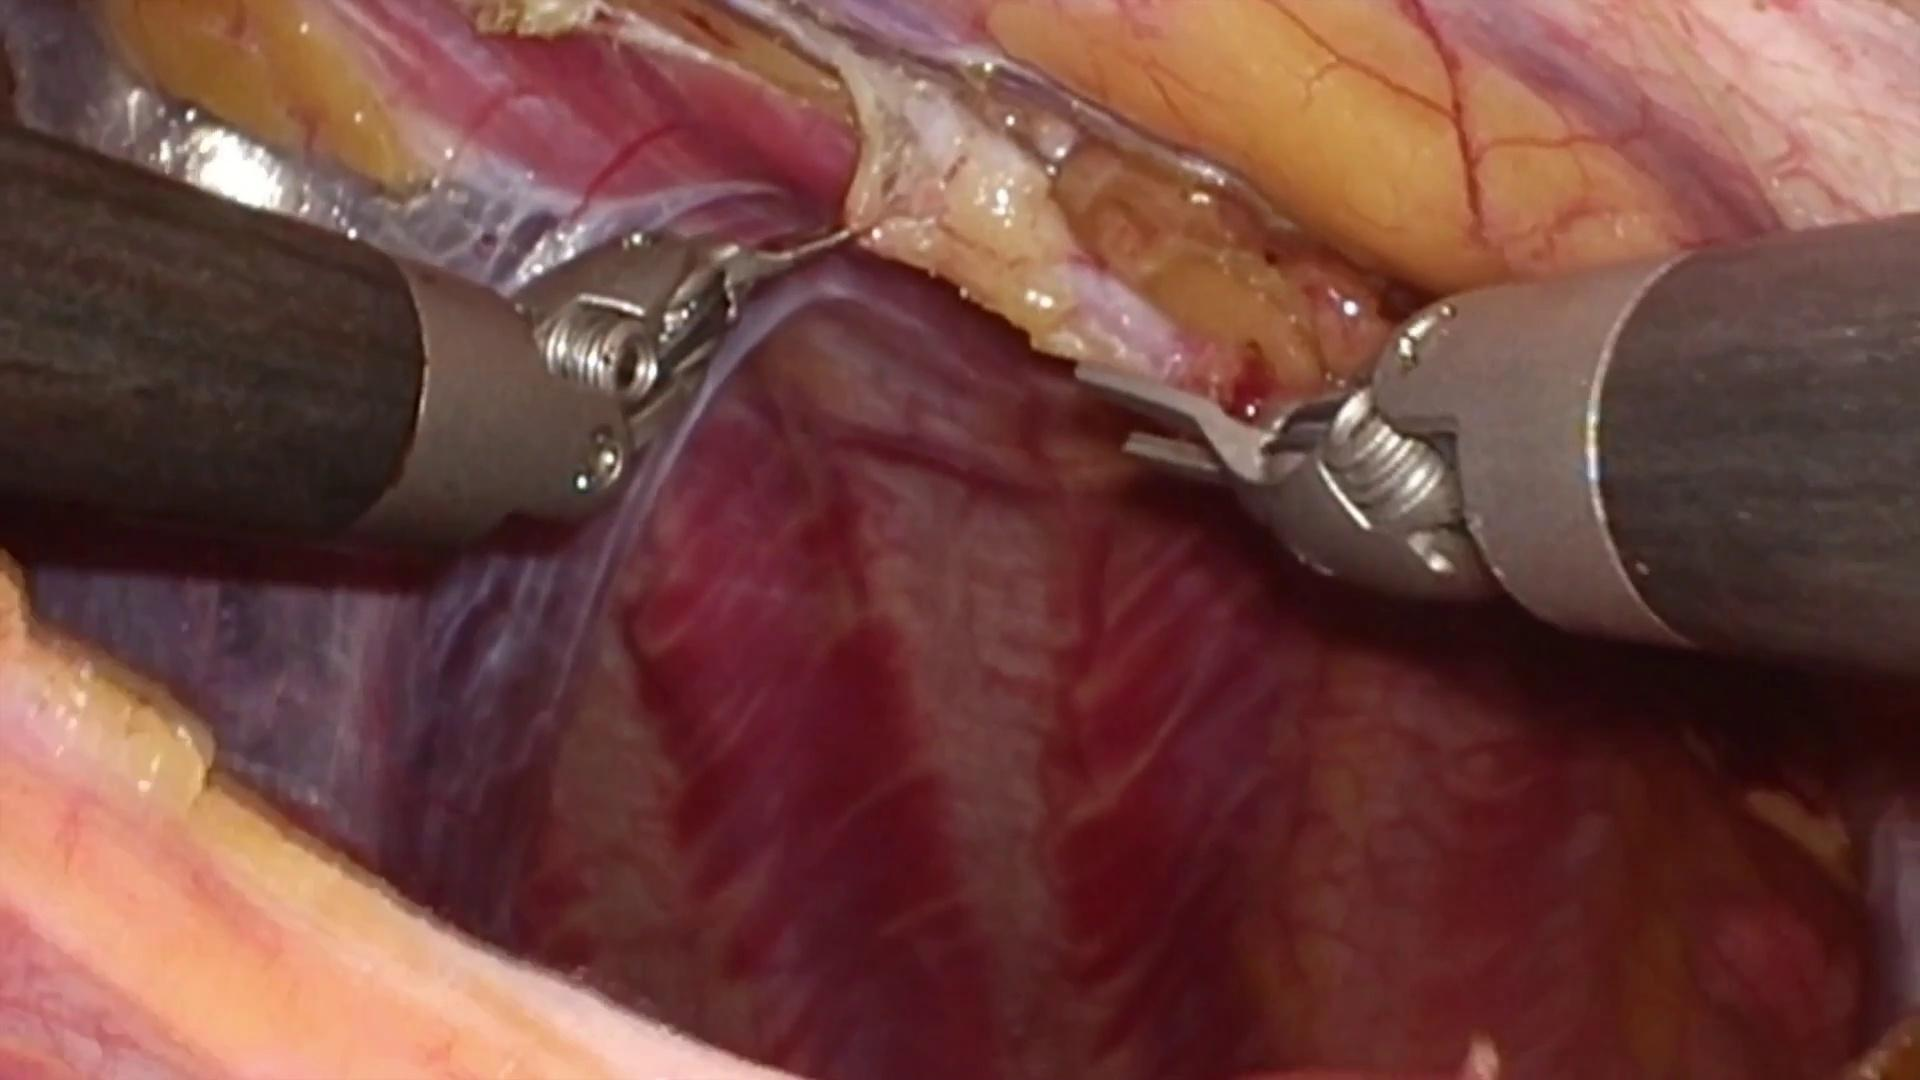Debakey: (674, 227, 856, 303)
clipper: (1072, 360, 1507, 626)
